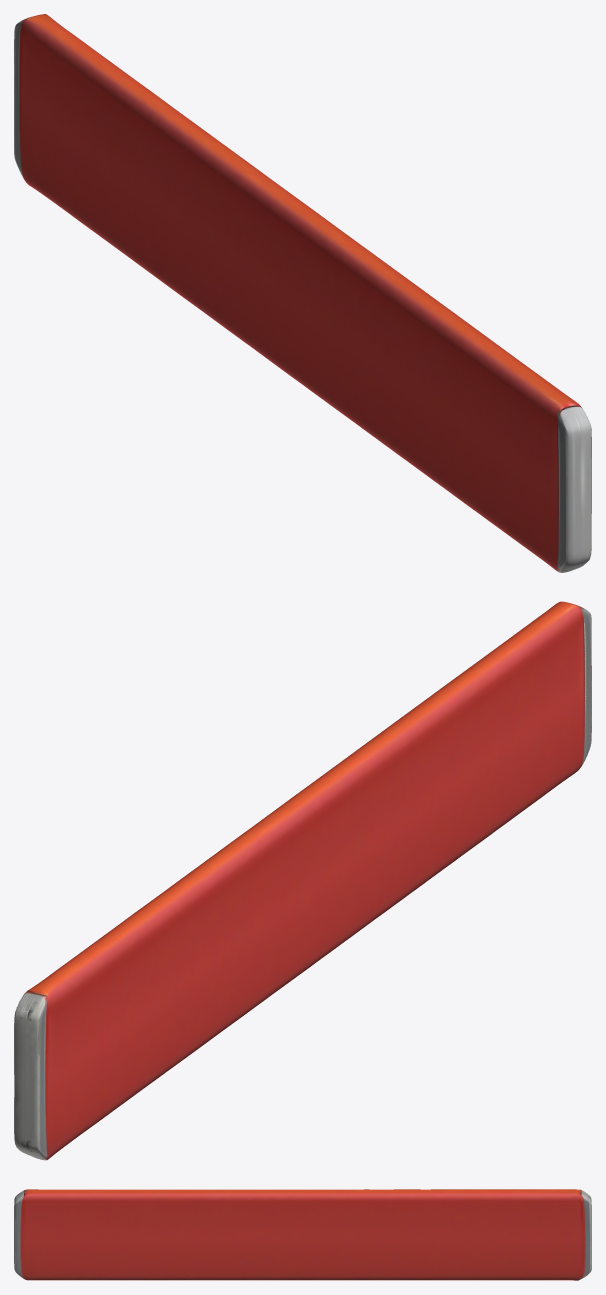
The model's file is iman.glb.
3 renders of one model, top to bottom at view 1: azimuth 30°, elevation 25°; view 2: azimuth 150°, elevation 25°; view 3: azimuth 270°, elevation 25°, orthographic. The views are drawn at different scales.
Bounding box in the file's own units: 0.0569 × 0.3412 × 2.
1 material, 1 textured.
